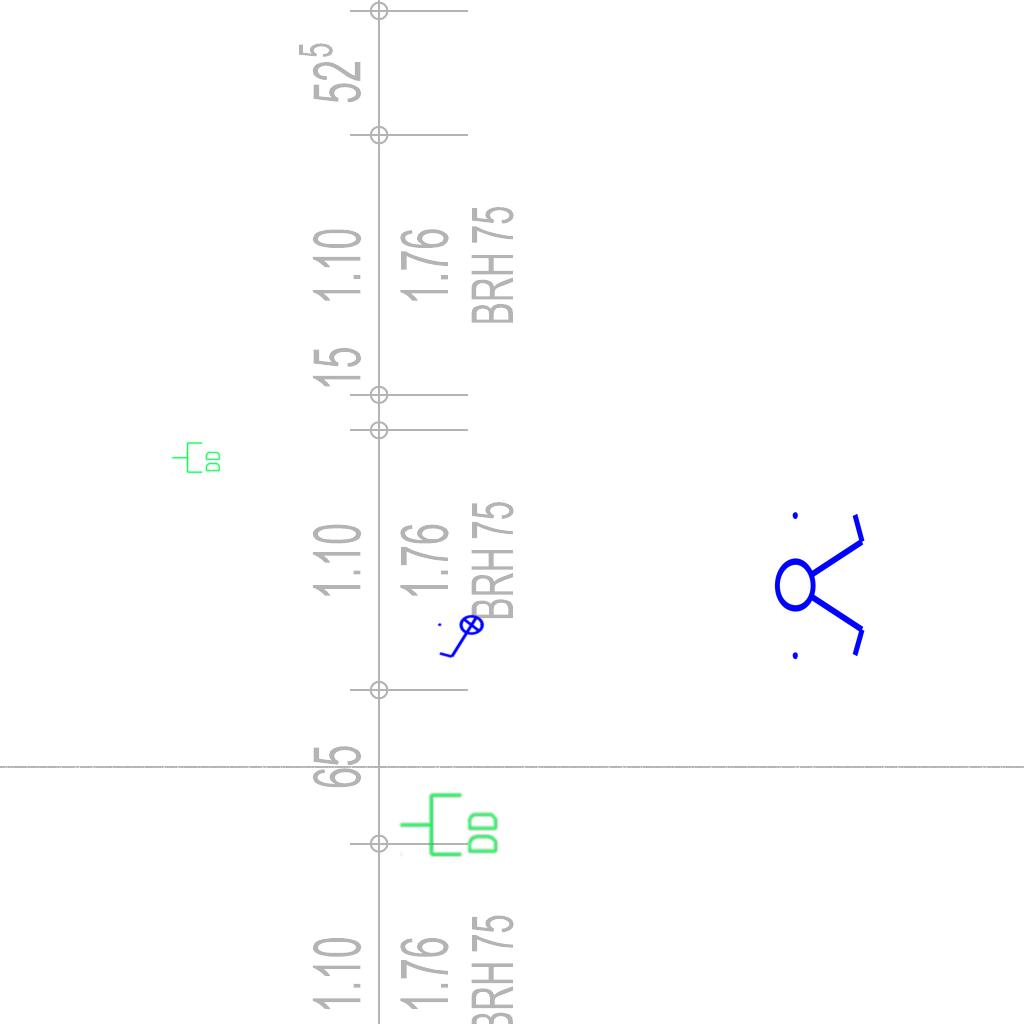Ausschalter_beleuchtet: (435, 614, 491, 662)
Datenanschluss_zweifach: (398, 791, 501, 860), (171, 441, 222, 475)
Serienschalter: (773, 500, 869, 668)
